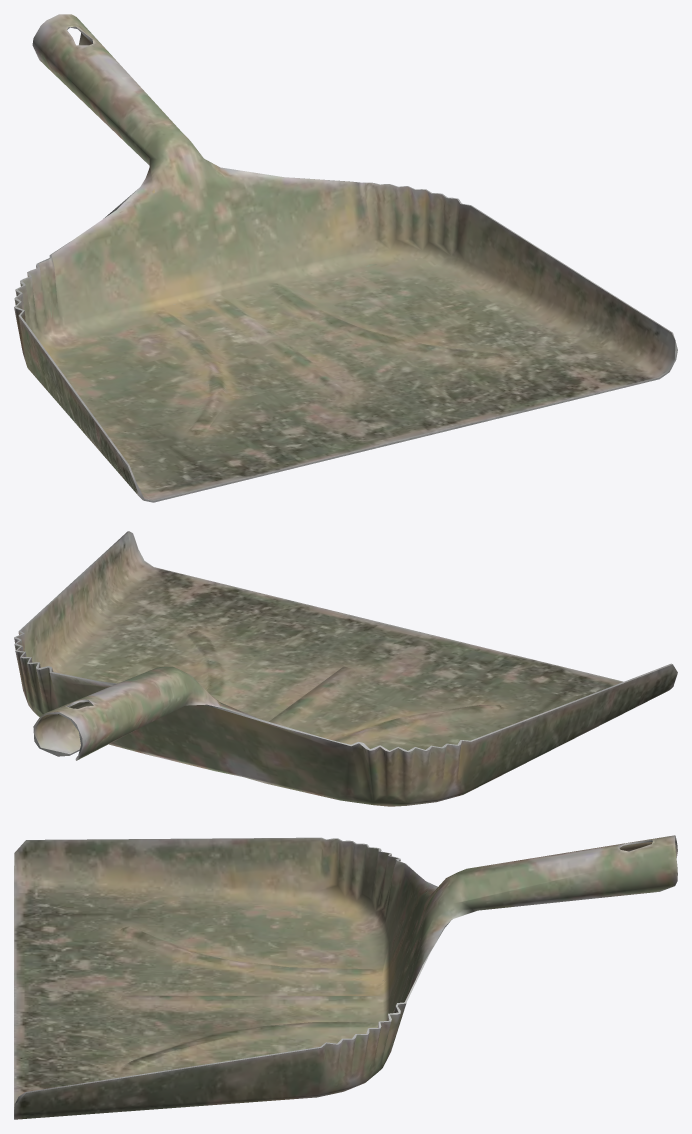
The model's file is dustpan.glb.
3 renders of one model, top to bottom at view 1: azimuth 30°, elevation 25°; view 2: azimuth 150°, elevation 25°; view 3: azimuth 270°, elevation 25°, orthographic. The views are drawn at different scales.
Visible parts, largest first — view 1: dustpan; view 2: dustpan; view 3: dustpan.
Boxes of the visible parts, x1,y1,x2,y2 form: dustpan: (14, 14, 677, 502); dustpan: (14, 531, 677, 806); dustpan: (14, 835, 677, 1119).
Size of the model in its own units: 0.3318 by 0.1003 by 0.3679.
Materials: 1 (1 with a texture image).
